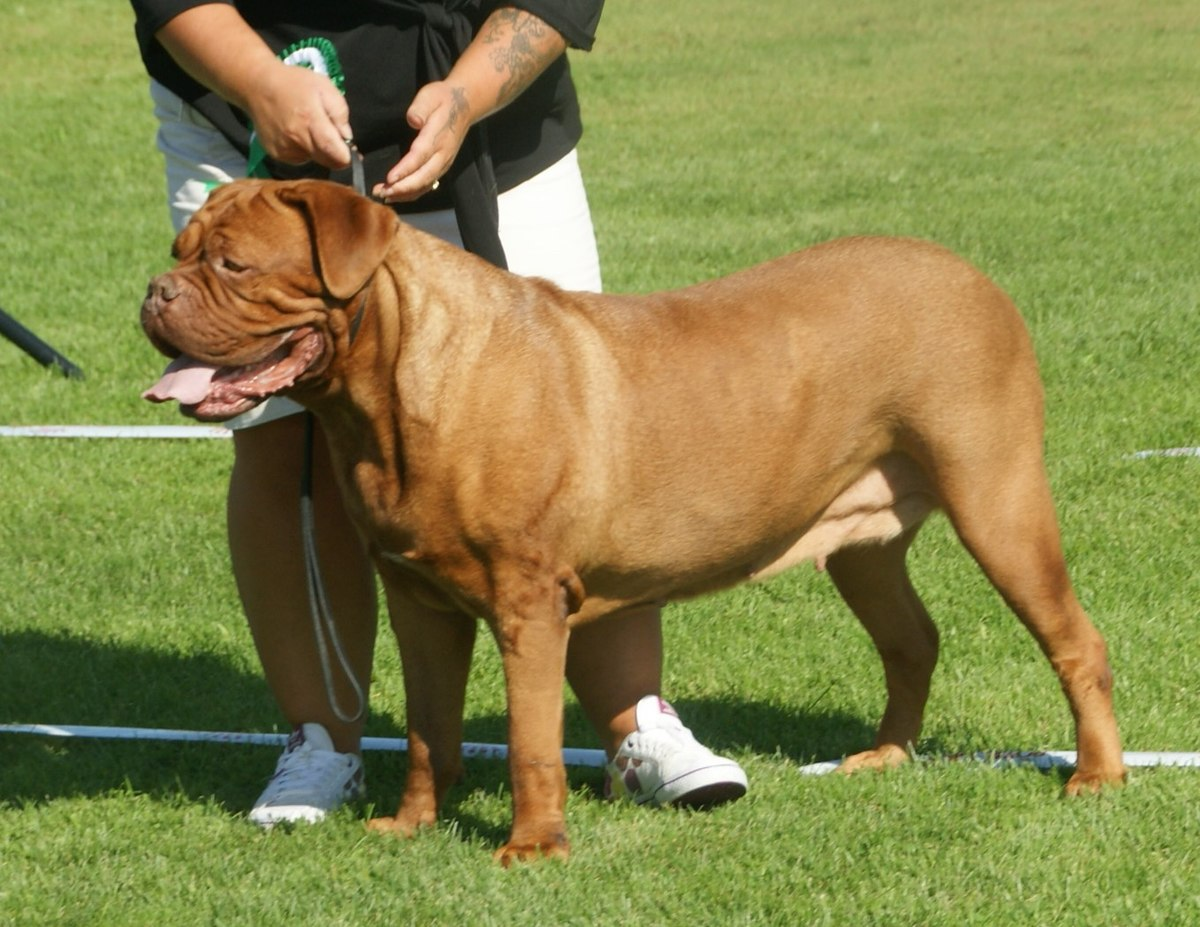dogue_de_bordeaux: (136, 178, 1128, 865)
person: (126, 0, 749, 830)
